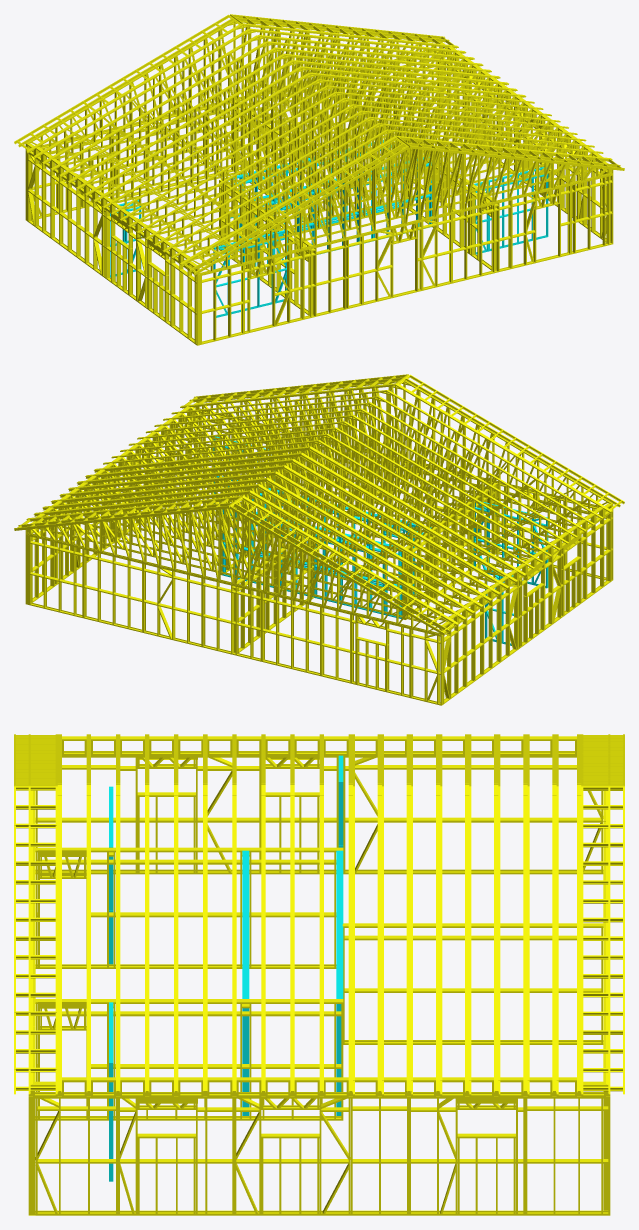
Rendered from camping-resort.glb.
The picture shows the model from 3 angles, top to bottom: view 1: azimuth 30°, elevation 25°; view 2: azimuth 150°, elevation 25°; view 3: azimuth 270°, elevation 25°; orthographic projection. The views are drawn at different scales.
Parts seen in each view (by area): view 1: part_01, part_00; view 2: part_01, part_00; view 3: part_01, part_00.
Part boxes in pixels (x1,y1,x2,y2): part_01: [14, 14, 624, 345]; part_00: [110, 140, 548, 317]; part_01: [14, 374, 624, 705]; part_00: [213, 436, 548, 645]; part_01: [14, 734, 624, 1215]; part_00: [109, 755, 343, 1181].
Bounding box in the file's own units: 17.68 × 5.97 × 12.8.
